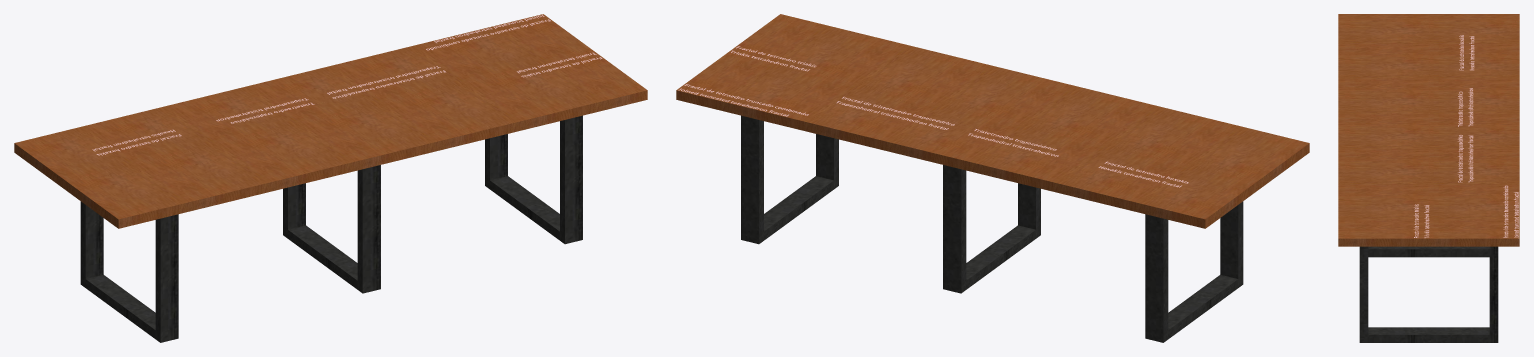
File: geomSagrada10.glb
3 renders of one model, left to right at view 1: azimuth 30°, elevation 25°; view 2: azimuth 150°, elevation 25°; view 3: azimuth 270°, elevation 25°, orthographic. The views are drawn at different scales.
Visible parts, largest first — view 1: object 1, Composant#1 (×3), Fractal de tetra#2, Fractal de trist; view 2: object 1, Composant#1 (×3), Fractal de tetra#2, Fractal de trist; view 3: object 1, Composant#1 (×2), Fractal de trist, Fractal de tetra#2, Tristetraedro tr, Fractal de tetra, Fractal de tetra#1.
Part boxes in pixels (box(x1,y1,x2,y2)): object 1: box(14, 14, 647, 228); Composant#1 (×3): box(80, 115, 582, 342); Fractal de tetra#2: box(426, 14, 550, 50); Fractal de trist: box(327, 66, 445, 98); object 1: box(676, 14, 1309, 228); Composant#1 (×3): box(741, 115, 1243, 342); Fractal de tetra#2: box(678, 84, 808, 116); Fractal de trist: box(836, 96, 954, 129); object 1: box(1338, 14, 1519, 246); Composant#1 (×2): box(1359, 246, 1498, 342); Fractal de trist: box(1458, 135, 1473, 182); Fractal de tetra#2: box(1503, 185, 1518, 238); Tristetraedro tr: box(1458, 88, 1473, 126); Fractal de tetra: box(1459, 35, 1474, 70); Fractal de tetra#1: box(1414, 204, 1429, 237).
Size of the model in its own units: 2.93 by 0.771 by 1.
Materials: 3 (2 with a texture image).
